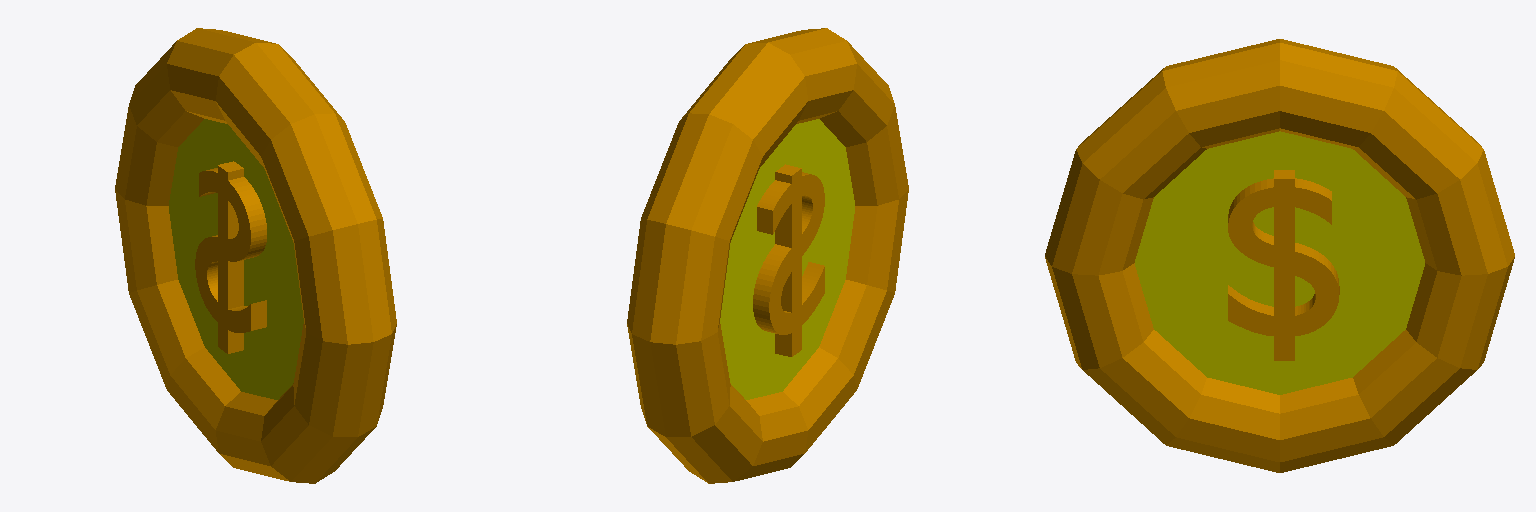
File: coin_seperated.obj
3 views of the same model, side by side, from view 1: azimuth 30°, elevation 25°; view 2: azimuth 150°, elevation 25°; view 3: azimuth 270°, elevation 25° (orthographic).
Parts seen in each view (by area): view 1: Torus, Cylinder; view 2: Torus, Cylinder; view 3: Torus, Cylinder.
Boxes of the visible parts, box(x1,y1,x2,y2) form: Torus: box(115, 28, 396, 483); Cylinder: box(169, 119, 303, 399); Torus: box(627, 28, 908, 483); Cylinder: box(720, 119, 854, 399); Torus: box(1045, 39, 1514, 472); Cylinder: box(1135, 131, 1424, 394).
Size of the model in its own units: 0.4949 by 2.5 by 2.5.